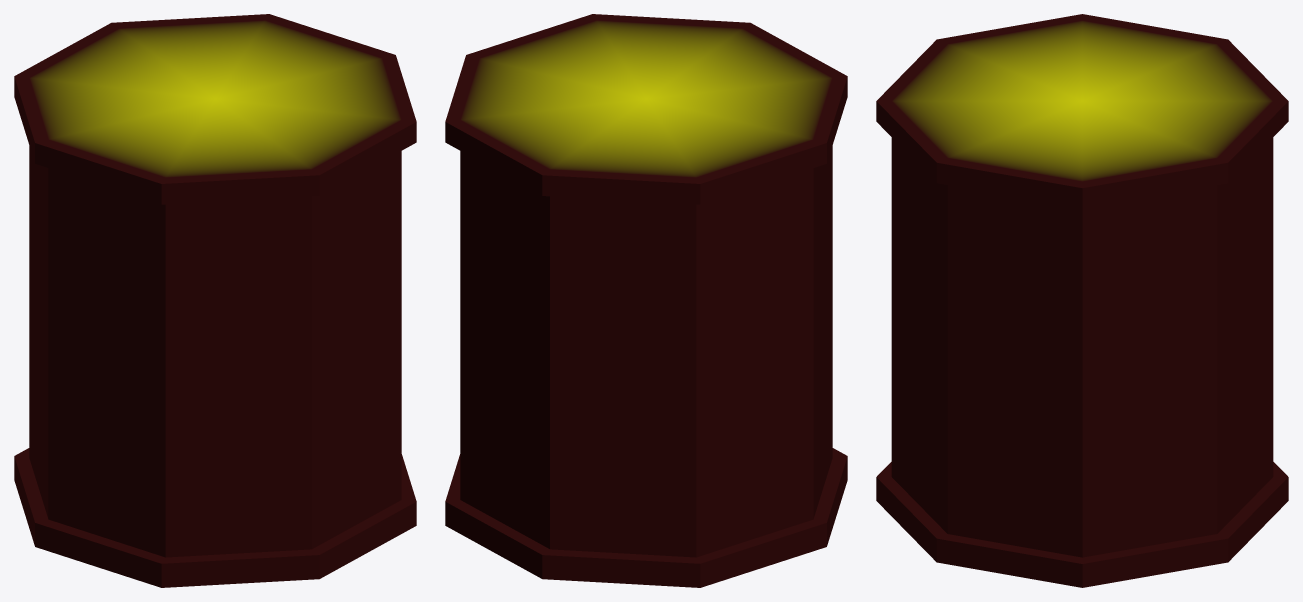
File: ExplosiveBarrel.fbx
3 views of the same model, side by side, from view 1: azimuth 30°, elevation 25°; view 2: azimuth 150°, elevation 25°; view 3: azimuth 270°, elevation 25° (orthographic).
Visible parts, largest first — view 1: pCylinder1; view 2: pCylinder1; view 3: pCylinder1.
Boxes of the visible parts, x1,y1,x2,y2 form: pCylinder1: (14, 14, 416, 587); pCylinder1: (445, 14, 847, 587); pCylinder1: (876, 14, 1288, 587).
Size of the model in its own units: 0.0414 by 0.0443 by 0.0414.
